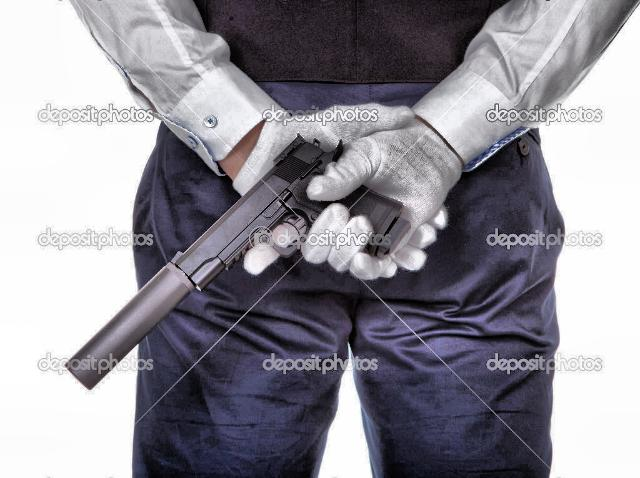pistol: (47, 107, 407, 414)
